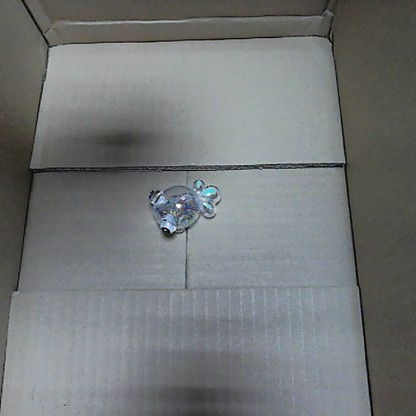whitefish: (144, 177, 221, 238)
